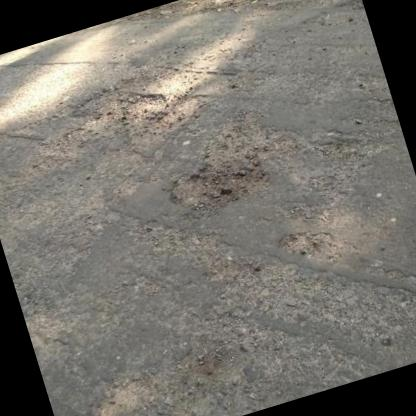pothole: (162, 146, 278, 226), (113, 76, 208, 150), (274, 219, 337, 266)
